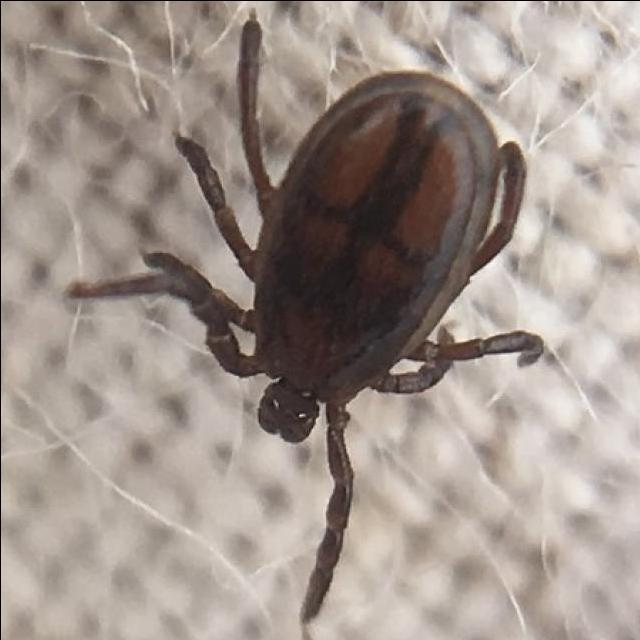Ixodes Ricinus-M: (63, 13, 544, 621)
